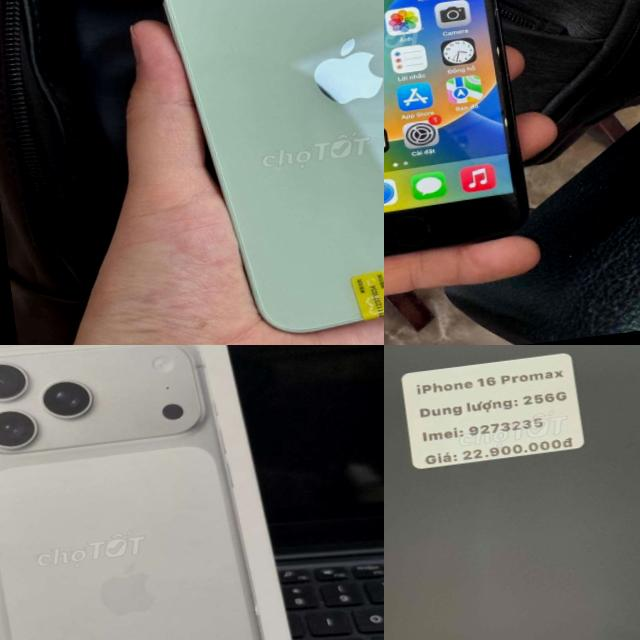gen_11: (384, 0, 550, 276)
gen_12_13: (117, 0, 384, 345)
gen_16: (384, 345, 640, 640)
gen_17: (0, 345, 297, 640)
